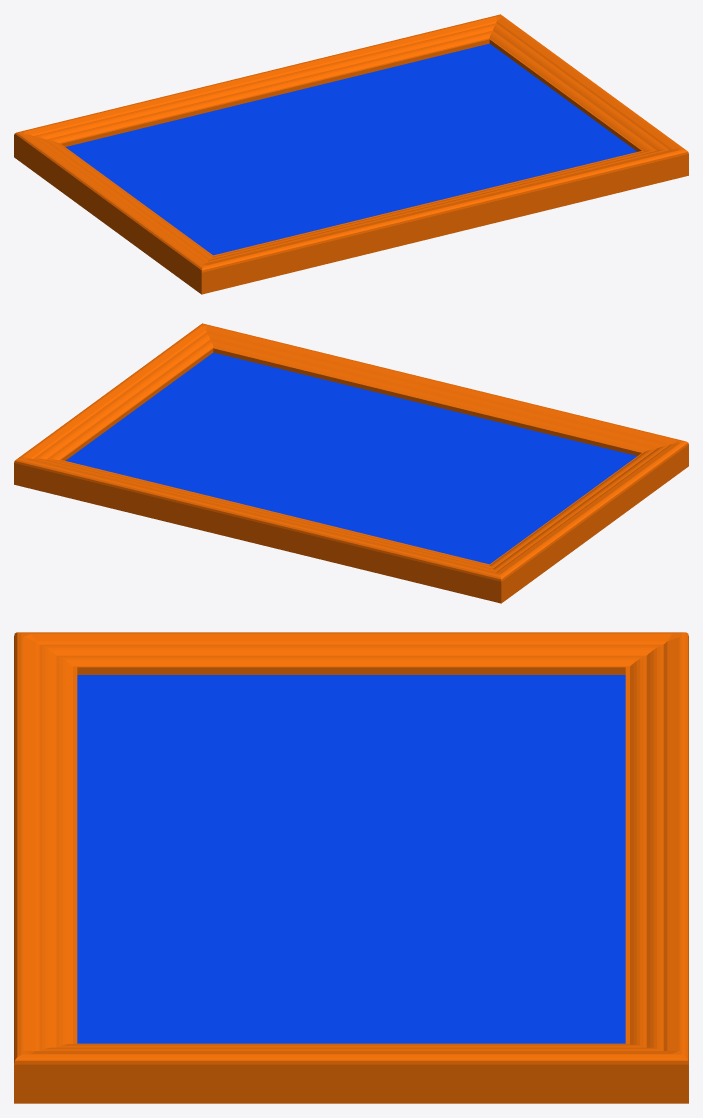
File: recuadro_01.FBX
3 renders of one model, top to bottom at view 1: azimuth 30°, elevation 25°; view 2: azimuth 150°, elevation 25°; view 3: azimuth 270°, elevation 25°, orthographic. The views are drawn at different scales.
Visible parts, largest first — view 1: Box003, Box002; view 2: Box003, Box002; view 3: Box003, Box002.
Part boxes in pixels (box(x1,y1,x2,y2)): Box003: box(65, 43, 637, 255); Box002: box(14, 14, 688, 294); Box003: box(65, 352, 637, 564); Box002: box(14, 323, 688, 603); Box003: box(77, 675, 625, 1043); Box002: box(14, 632, 688, 1103).
Size of the model in its own units: 60 by 3 by 40.
